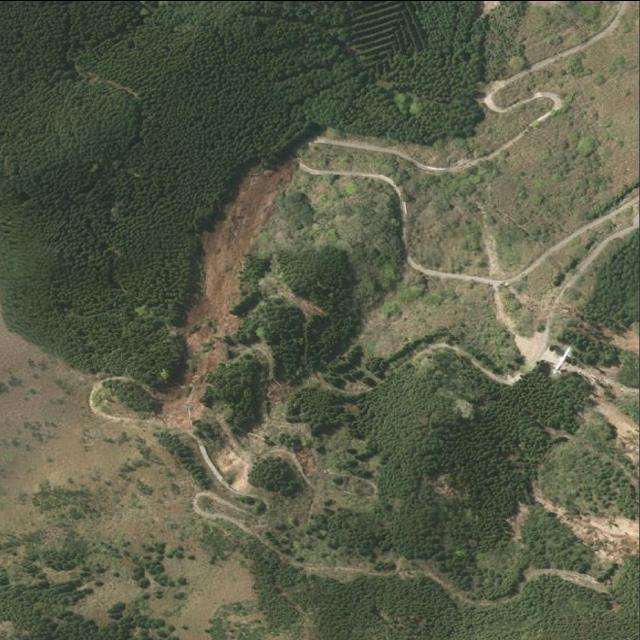landslide: (179, 157, 295, 387)
